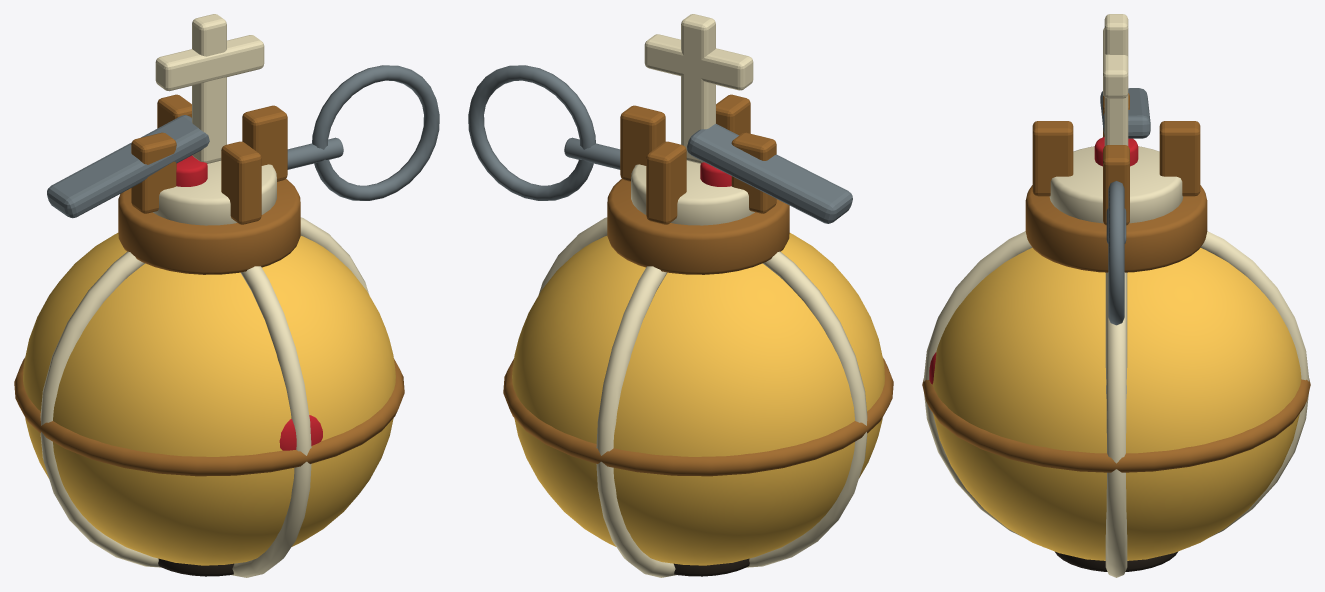
Rendered from holy-hand-frag.glb.
3 views of the same model, side by side, from view 1: azimuth 30°, elevation 25°; view 2: azimuth 150°, elevation 25°; view 3: azimuth 270°, elevation 25° (orthographic).
Parts seen in each view (by area): view 1: HHG_Body, HHG_CrownCollar, HHG_EquatorBand, HHG_MeridianBand_A, HHG_MeridianBand_B, HHG_PinRing, HHG_SafetyLever, HHG_CrossStem, HHG_CrownCap, HHG_CrossArm, HHG_CrownTooth_4, HHG_CrownTooth_1 (+6 smaller); view 2: HHG_Body, HHG_CrownCollar, HHG_EquatorBand, HHG_MeridianBand_A, HHG_MeridianBand_B, HHG_SafetyLever, HHG_PinRing, HHG_CrownCap, HHG_CrossStem, HHG_CrossArm, HHG_CrownTooth_2, HHG_CrownTooth_1 (+5 smaller); view 3: HHG_Body, HHG_CrownCollar, HHG_EquatorBand, HHG_MeridianBand_B, HHG_CrownCap, HHG_MeridianBand_A, HHG_CrownTooth_2, HHG_CrownTooth_4, HHG_PinRing, HHG_CrossStem, HHG_CrownTooth_1, HHG_CrossArm (+2 smaller).
Part boxes in pixels (x1,y1,x2,y2): HHG_Body: (23, 233, 395, 565); HHG_CrownCollar: (118, 179, 300, 274); HHG_EquatorBand: (14, 358, 404, 476); HHG_MeridianBand_A: (40, 217, 369, 567); HHG_MeridianBand_B: (231, 266, 311, 577); HHG_PinRing: (312, 65, 439, 200); HHG_SafetyLever: (47, 115, 209, 218); HHG_CrossStem: (192, 14, 226, 163); HHG_CrownCap: (153, 160, 276, 225); HHG_CrossArm: (155, 35, 264, 91); HHG_CrownTooth_4: (221, 141, 261, 224); HHG_CrownTooth_1: (242, 105, 287, 181); HHG_Body: (512, 233, 884, 565); HHG_CrownCollar: (607, 179, 789, 274); HHG_EquatorBand: (503, 358, 893, 476); HHG_MeridianBand_A: (538, 217, 867, 567); HHG_MeridianBand_B: (596, 266, 676, 577); HHG_SafetyLever: (687, 124, 852, 223); HHG_PinRing: (468, 65, 595, 200); HHG_CrownCap: (631, 160, 754, 225); HHG_CrossStem: (681, 14, 715, 163); HHG_CrossArm: (644, 34, 753, 90); HHG_CrownTooth_2: (646, 141, 686, 224); HHG_CrownTooth_1: (620, 105, 665, 181); HHG_Body: (932, 248, 1301, 560); HHG_CrownCollar: (1025, 185, 1207, 272); HHG_EquatorBand: (922, 379, 1310, 472); HHG_MeridianBand_B: (923, 231, 1309, 536); HHG_CrownCap: (1049, 146, 1183, 223); HHG_MeridianBand_A: (1105, 272, 1127, 577); HHG_CrownTooth_2: (1159, 121, 1200, 196); HHG_CrownTooth_4: (1032, 121, 1073, 196); HHG_PinRing: (1108, 181, 1124, 325); HHG_CrossStem: (1104, 14, 1128, 145); HHG_CrownTooth_1: (1103, 145, 1129, 225); HHG_CrossArm: (1103, 28, 1128, 98).
Size of the model in its own units: 0.5038 by 0.658 by 0.428.
